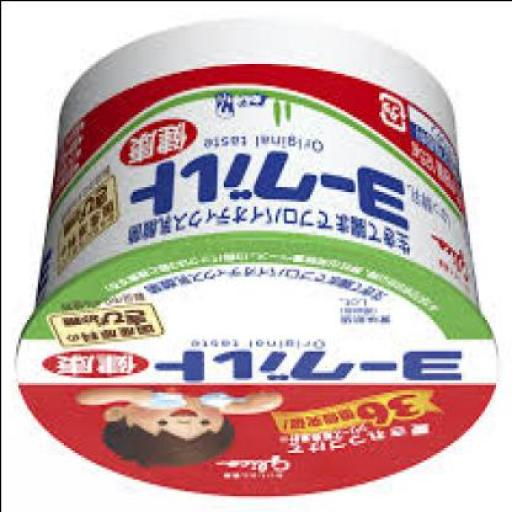plastic: (17, 20, 501, 497)
